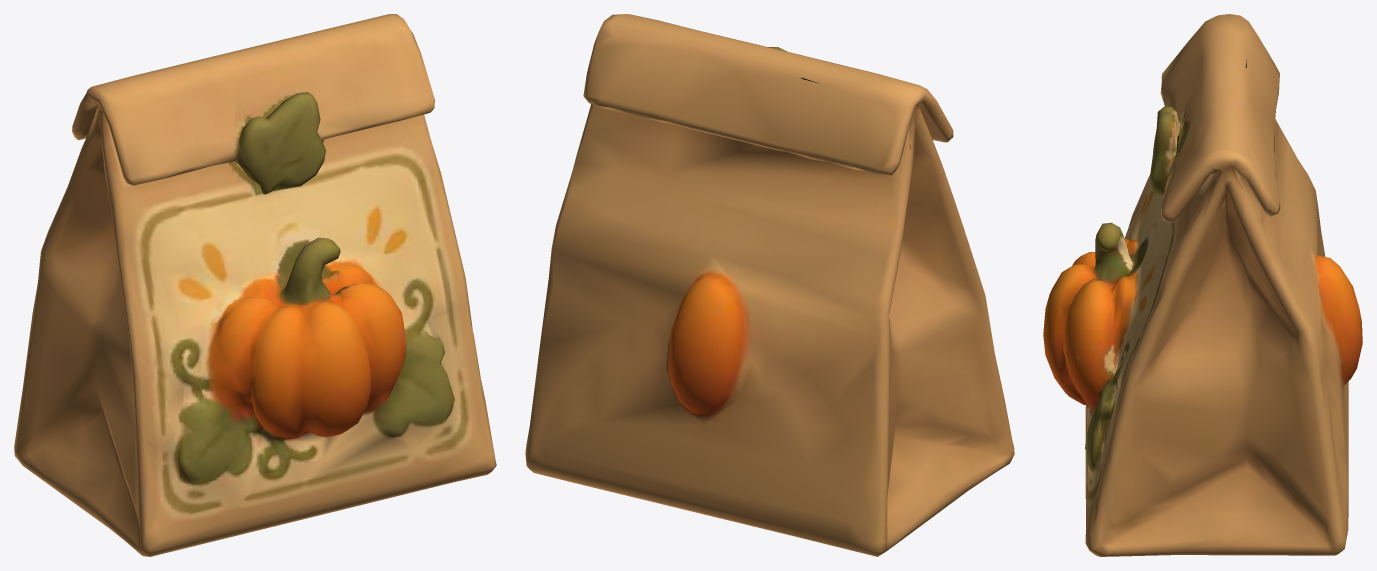
3 renders of one model, left to right at view 1: azimuth 30°, elevation 25°; view 2: azimuth 150°, elevation 25°; view 3: azimuth 270°, elevation 25°, orthographic. The views are drawn at different scales.
Parts seen in each view (by area): view 1: seed-pumpkin; view 2: seed-pumpkin; view 3: seed-pumpkin.
Boxes of the visible parts, x1,y1,x2,y2 form: seed-pumpkin: [14, 14, 496, 556]; seed-pumpkin: [525, 14, 1014, 556]; seed-pumpkin: [1043, 14, 1362, 556].
Bounding box in the file's own units: 0.1336 × 0.15 × 0.1096.
1 material, 1 textured.
